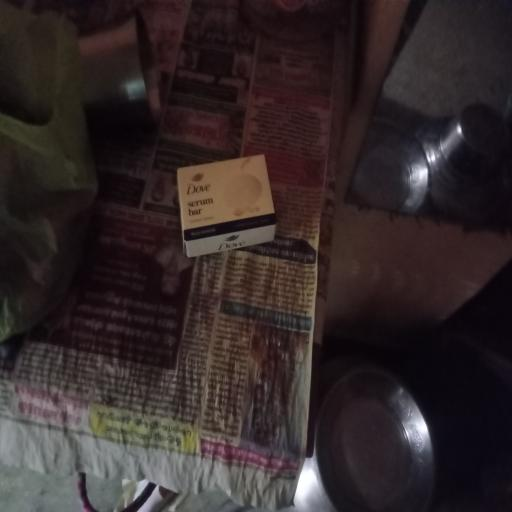Dove`1: (169, 151, 283, 260)
